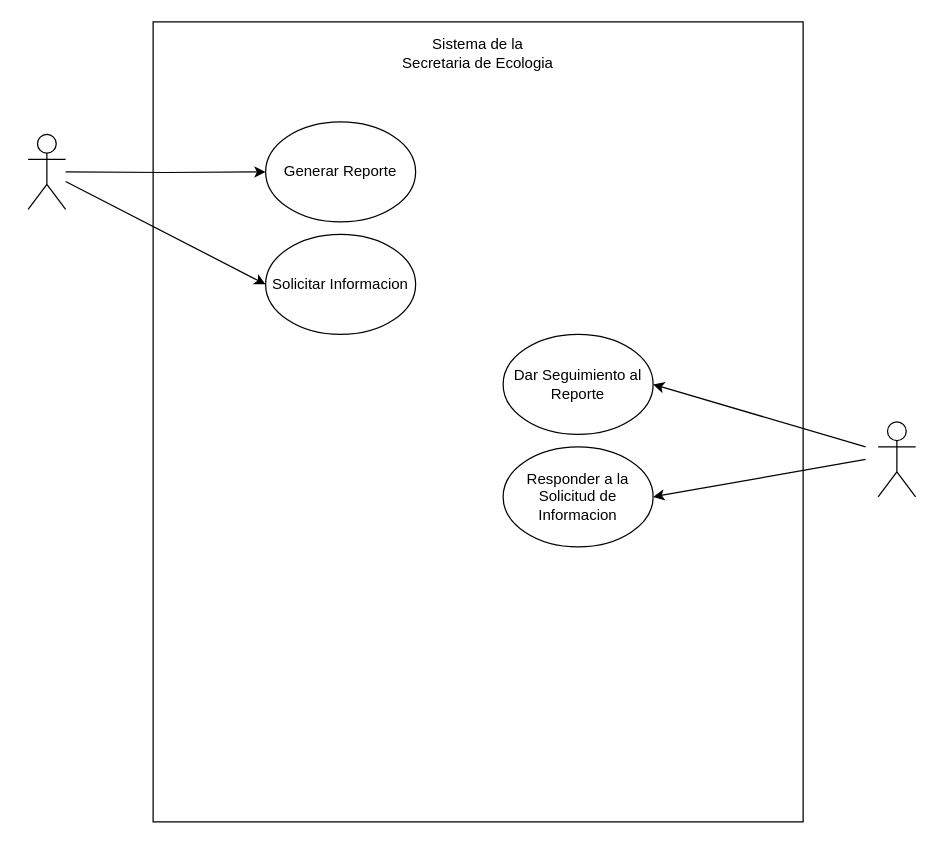
Some shapes in this 946 by 844 pixel diagram are drawn without their labels. Here are the shapes that lost their labels. From the top down, the centre of each, then its label:
At point 46,171: "Usuario".
At point 896,459: "Servidor Publico".
